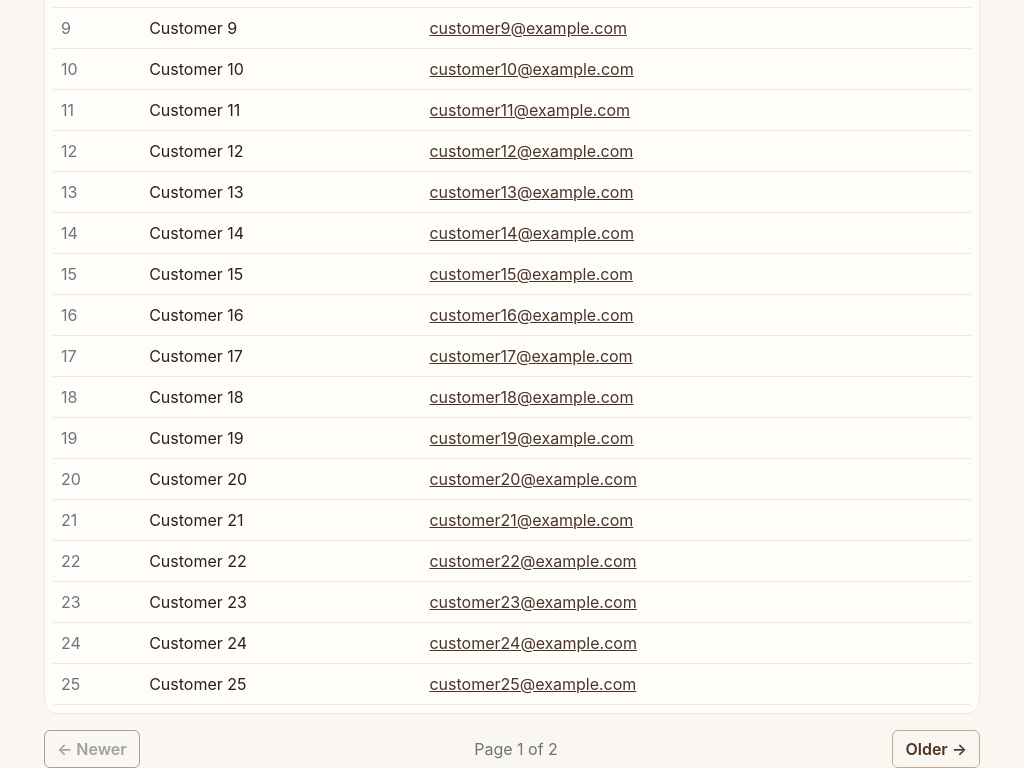
Test: <Customers /> › pages through the collection instead of silently showing only the first 25
(page scrolled)
Check: the text "Page 1 of 2" is shown, box x1=474 y1=736 x2=558 y2=760
Click the button "Older →": (936, 748) x1=892 y1=730 x2=980 y2=767
(page scrolled)
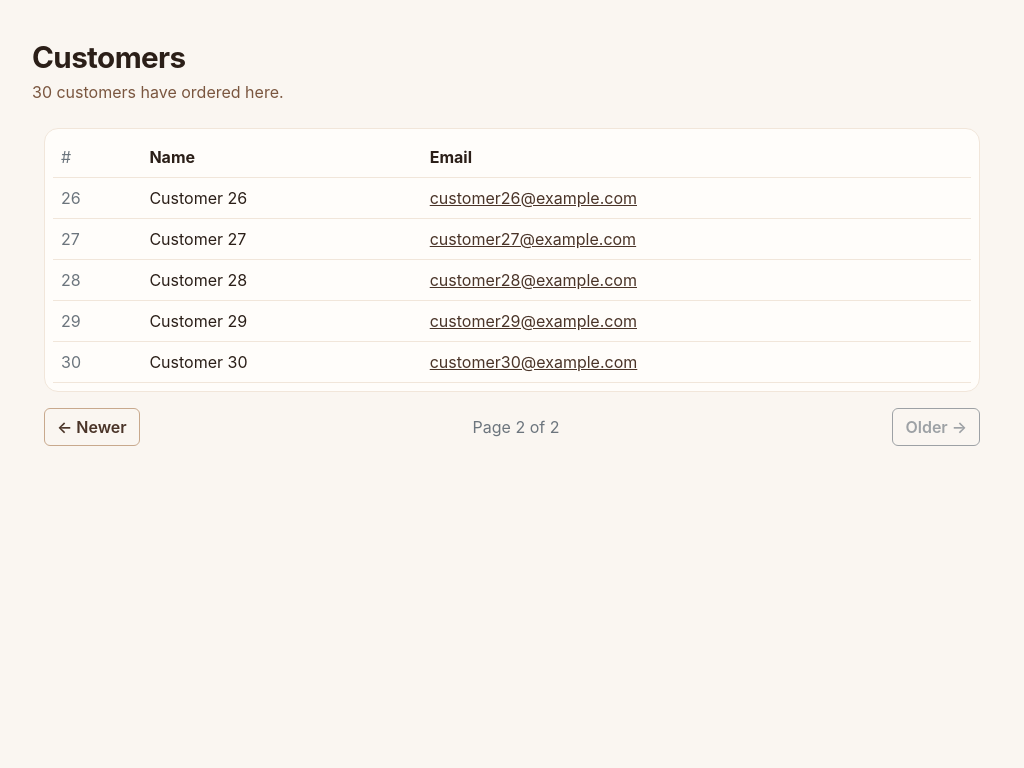
Check: the text "Customer 30" is shown, box x1=141 y1=341 x2=422 y2=382
Check: the text "Customer 1" is gone
Check: the text "26" is shown, box x1=53 y1=177 x2=141 y2=218
